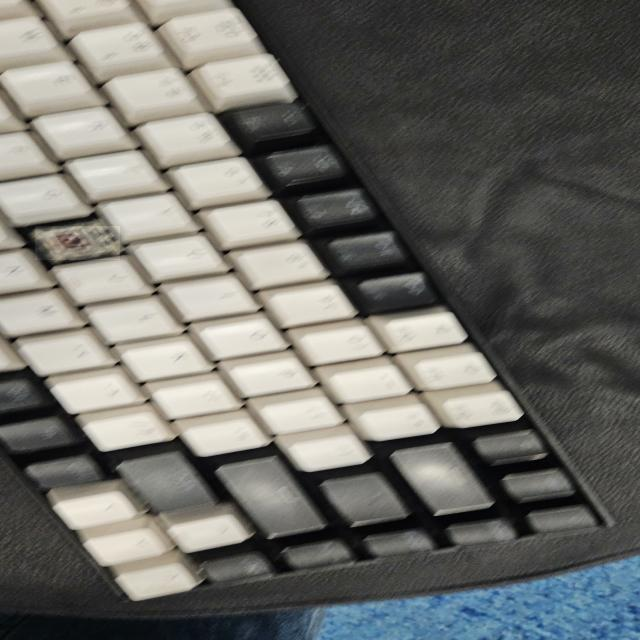C: (35, 226, 120, 260)
